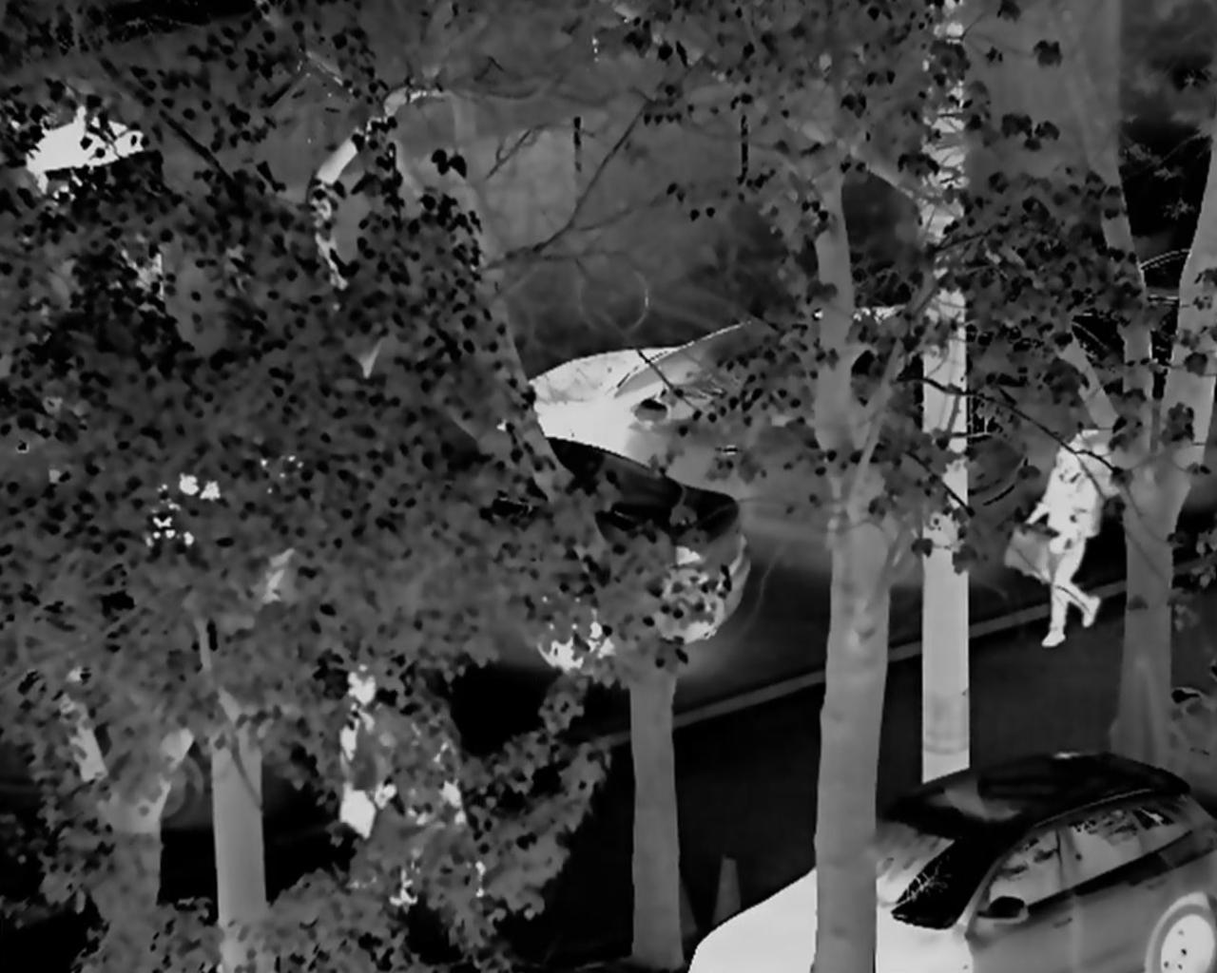person: (1030, 417, 1109, 658), (390, 714, 484, 907), (325, 663, 392, 852)
